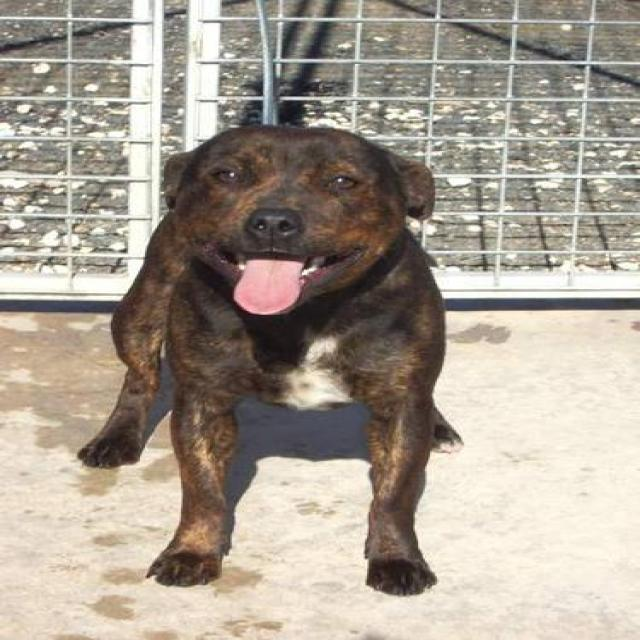staffordshire_bullterrier: (82, 124, 457, 598)
